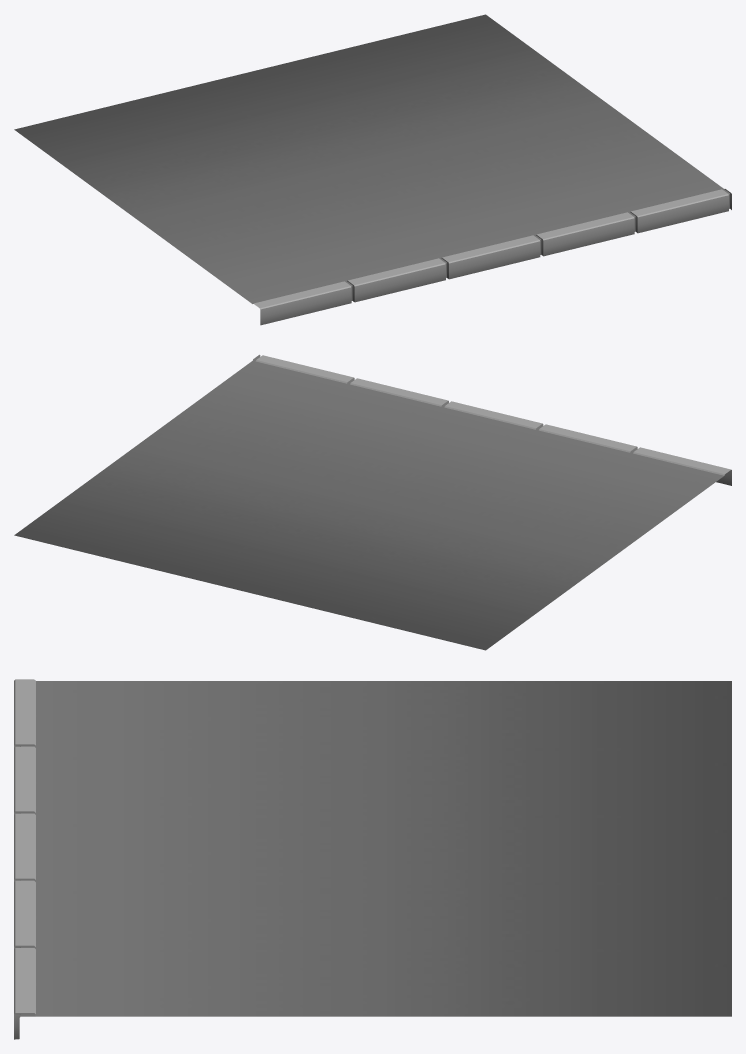
The model's file is sidewalk.fbx.
The picture shows the model from 3 angles, top to bottom: view 1: azimuth 30°, elevation 25°; view 2: azimuth 150°, elevation 25°; view 3: azimuth 270°, elevation 25°; orthographic projection. The views are drawn at different scales.
Visible parts, largest first — view 1: sidewalk; view 2: sidewalk; view 3: sidewalk.
Part boxes in pixels (left/top/right/bottom): sidewalk: left=14, top=14, right=731, bottom=325; sidewalk: left=14, top=354, right=731, bottom=650; sidewalk: left=14, top=679, right=731, bottom=1039.
Bounding box in the file's own units: 807 × 27.5 × 729.
